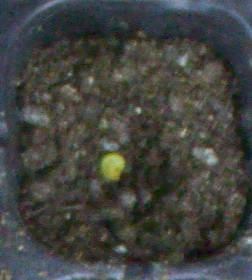chilli seed: (100, 152, 126, 180)
